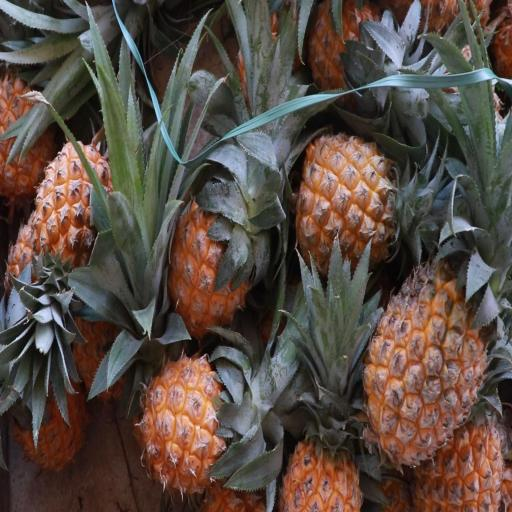Pineapple - v8 v1: (360, 236, 508, 476), (294, 122, 433, 288), (136, 343, 271, 498), (163, 171, 271, 342), (26, 138, 130, 310), (274, 366, 363, 512), (305, 0, 407, 126), (0, 54, 66, 220)
